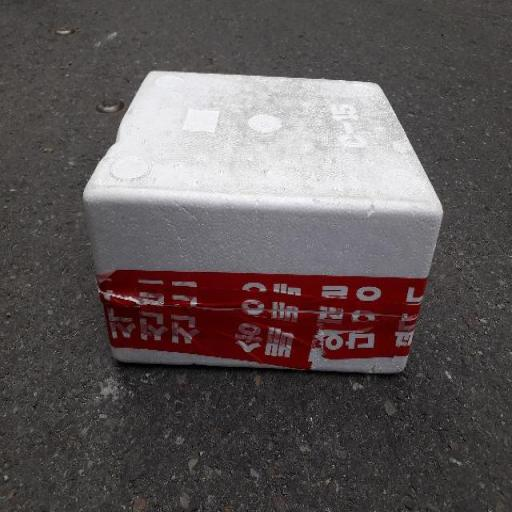styrofoam: (83, 71, 442, 371)
